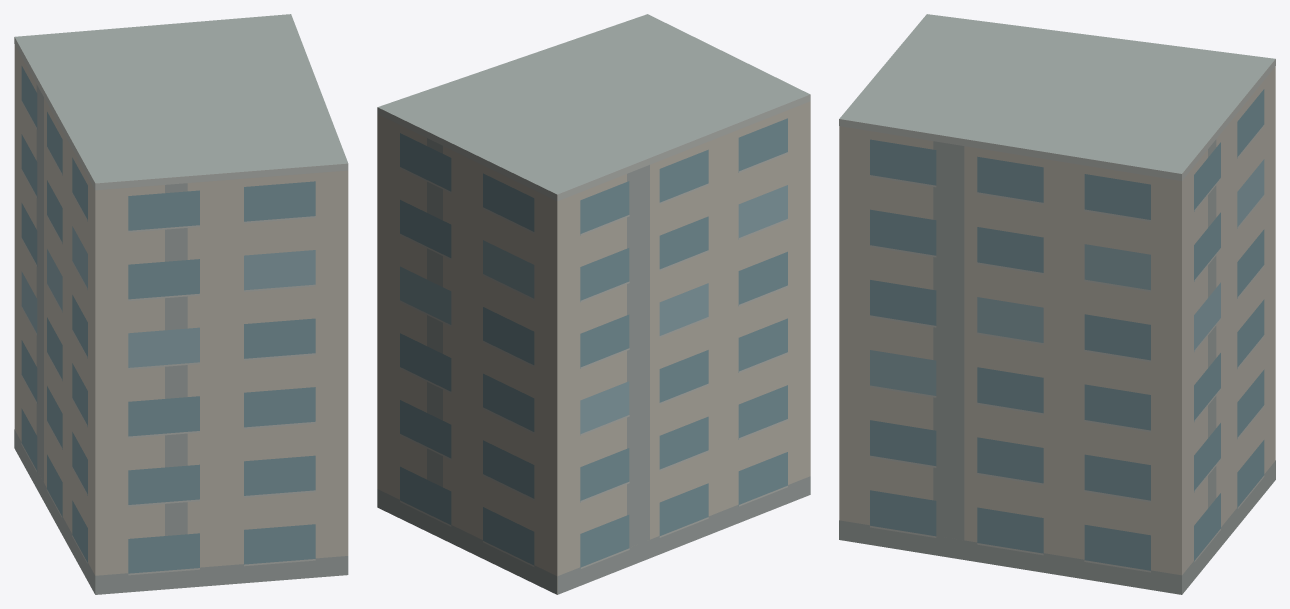
File: survey-upis-32854278.glb
3 views of the same model, side by side, from view 1: azimuth 30°, elevation 25°; view 2: azimuth 150°, elevation 25°; view 3: azimuth 270°, elevation 25° (orthographic). The views are drawn at different scales.
Parts seen in each view (by area): view 1: survey-upis-32854278.tmp; view 2: survey-upis-32854278.tmp; view 3: survey-upis-32854278.tmp.
Part boxes in pixels (x1,y1,x2,y2): survey-upis-32854278.tmp: (14,14,348,594); survey-upis-32854278.tmp: (377,14,810,594); survey-upis-32854278.tmp: (839,14,1275,594).
Bounding box in the file's own units: 11.83 × 14.5 × 13.64.
